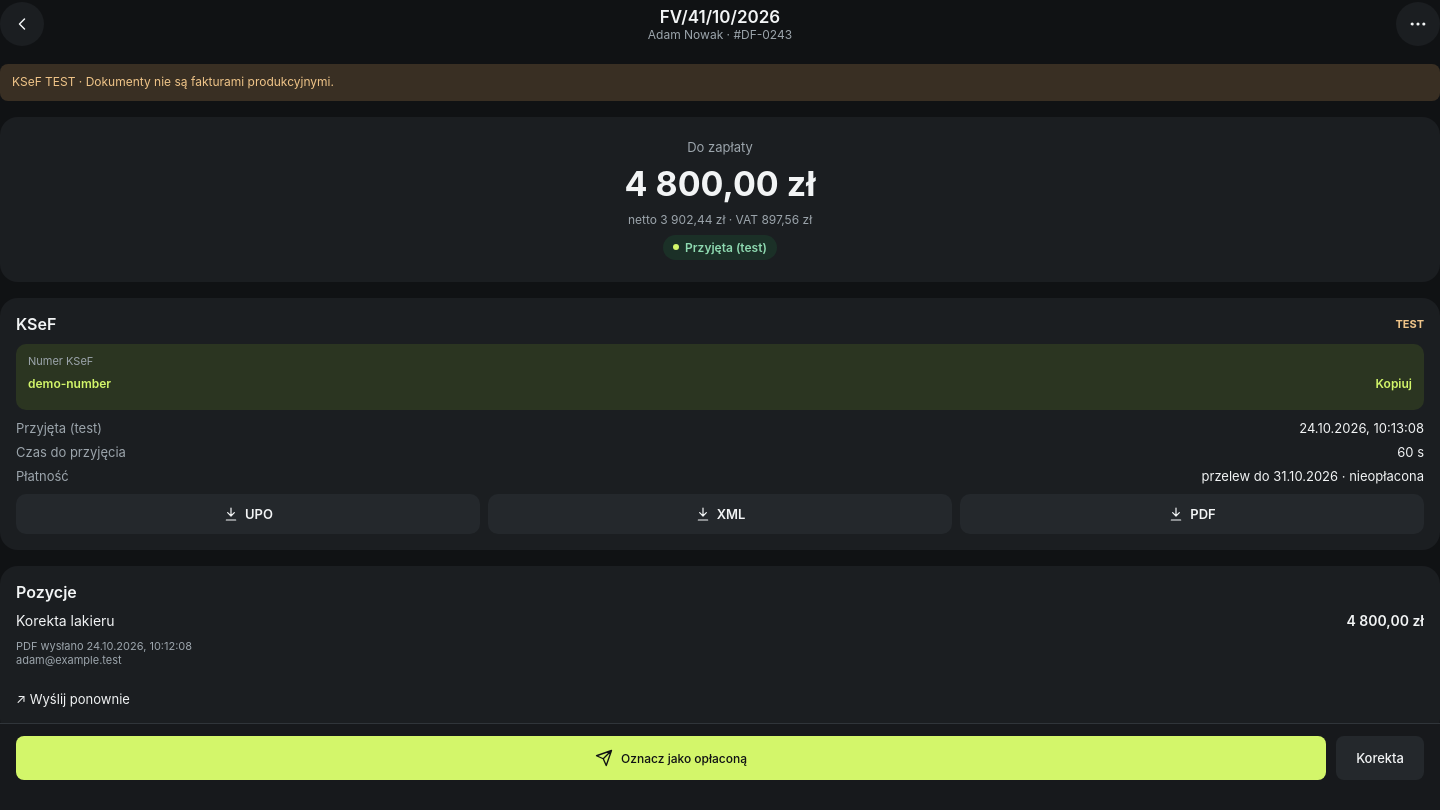
it: uses shared PDF, UPO and payment actions from mobile details
Click the button "PDF": (1192, 514) [960, 494, 1424, 534]
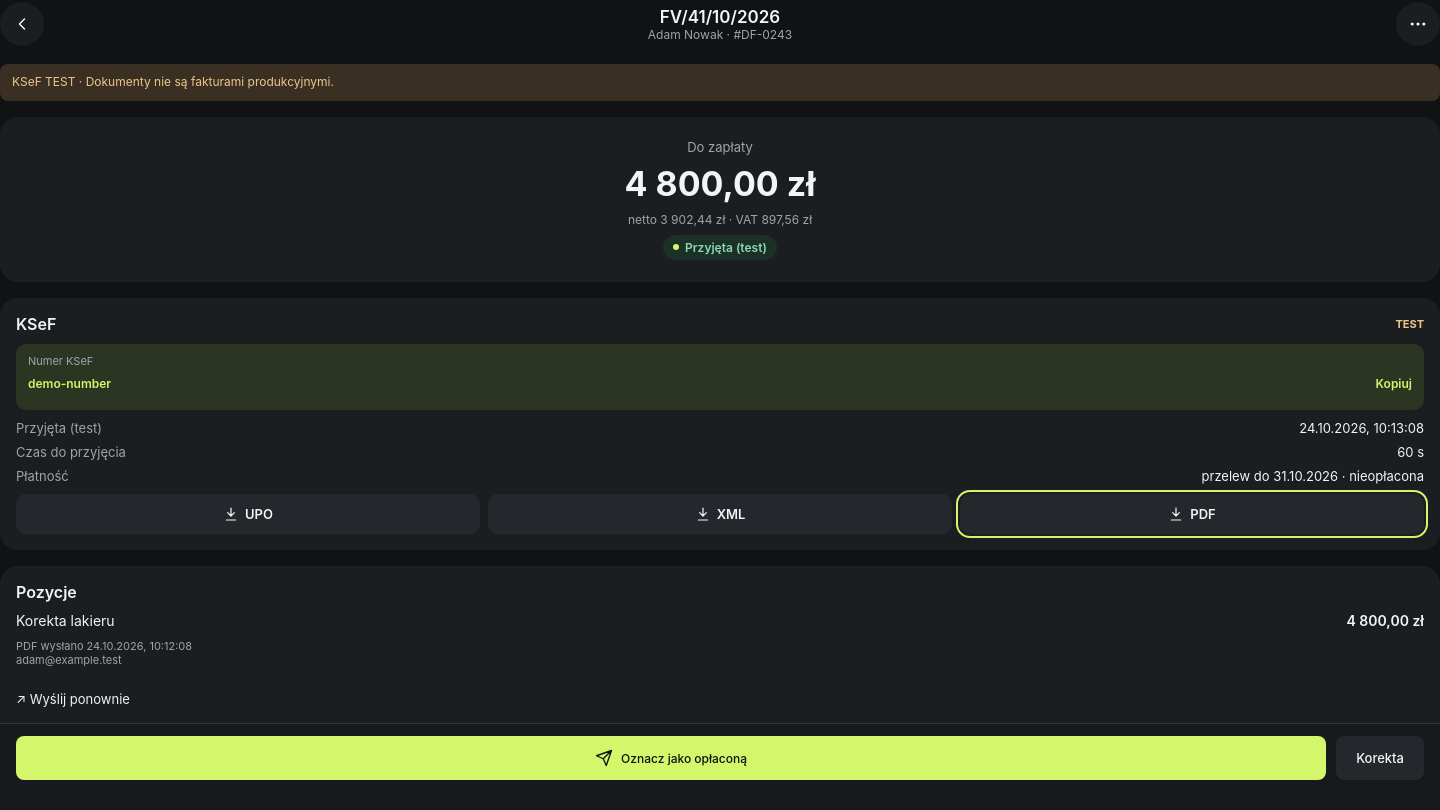
Click the button "UPO": (248, 514) [16, 494, 480, 534]
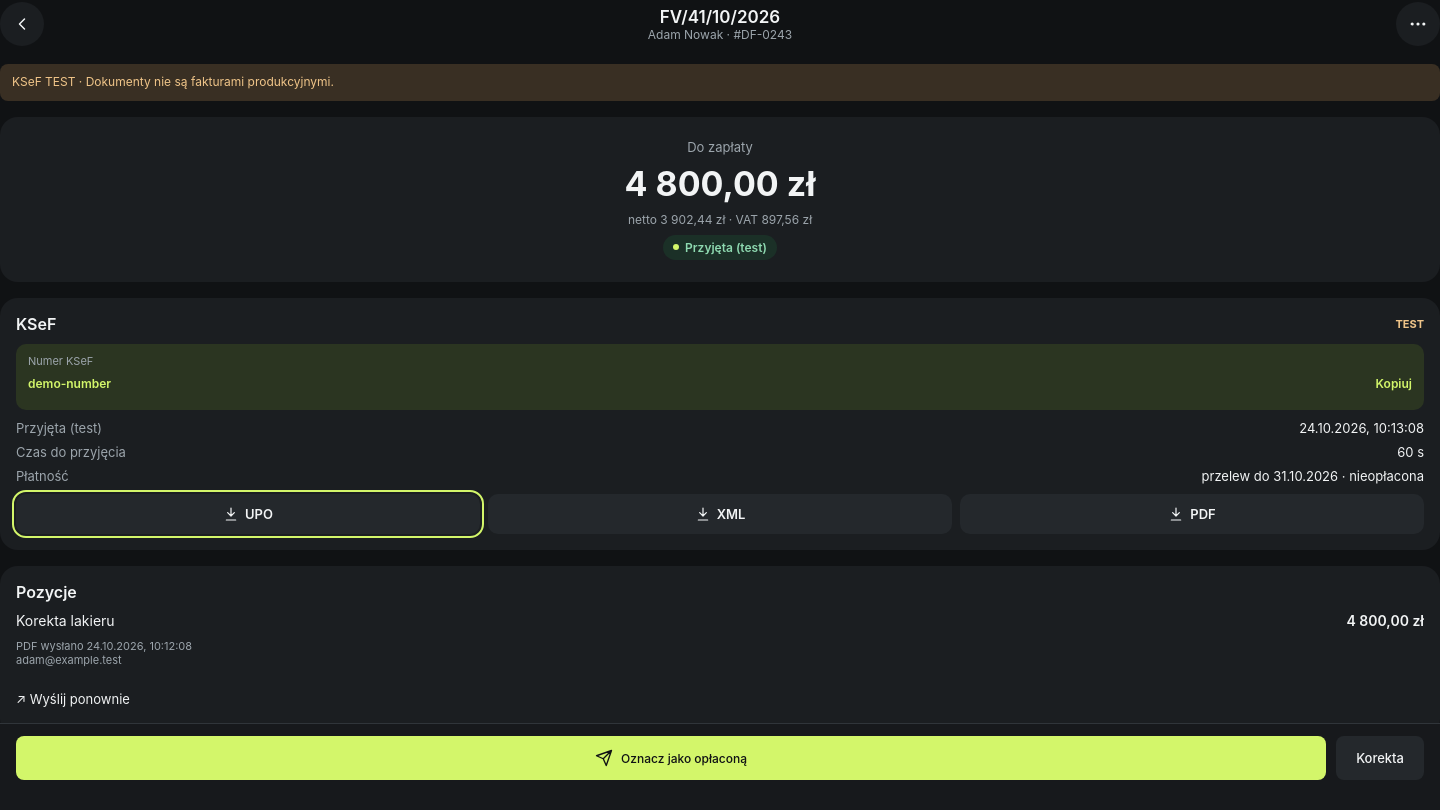
Click the button "Oznacz jako opłaconą": (671, 758) [16, 736, 1326, 780]
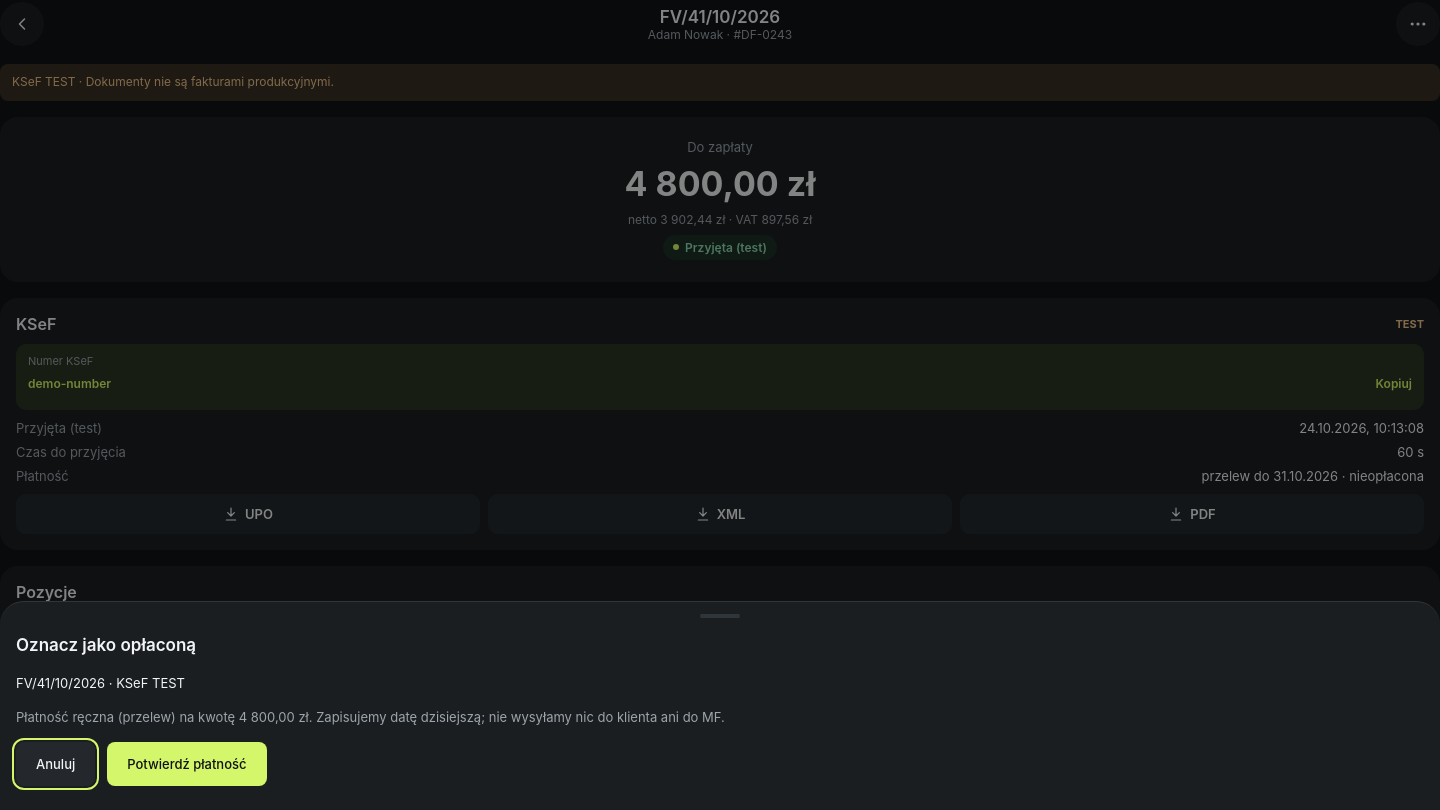
Click the button "Potwierdź płatność": (187, 764) [107, 742, 266, 786]
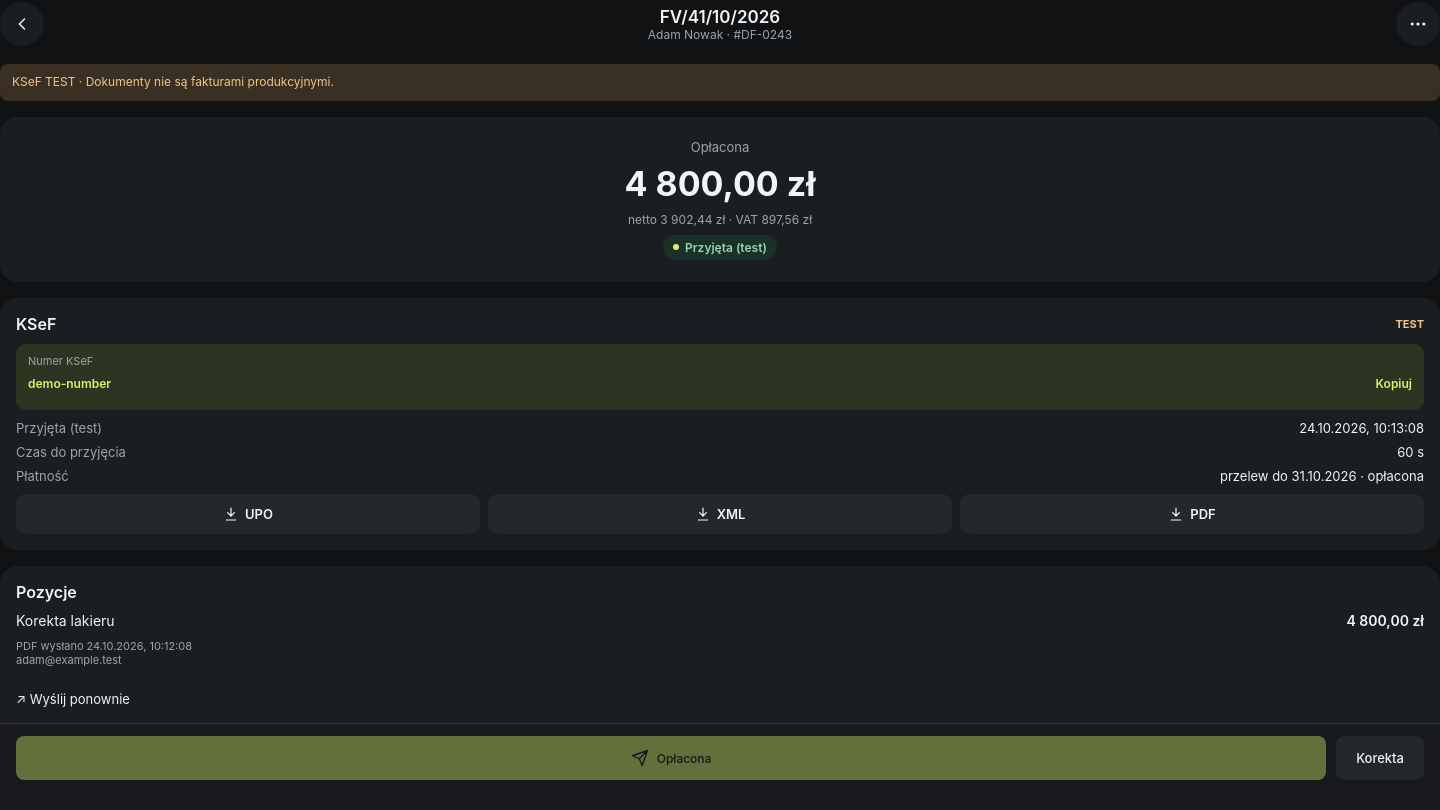
Expected: the button "Opłacona" is disabled, [16, 736, 1326, 780]
Click the button named "Więcej akcji faktury": (1418, 24) [1396, 2, 1439, 46]
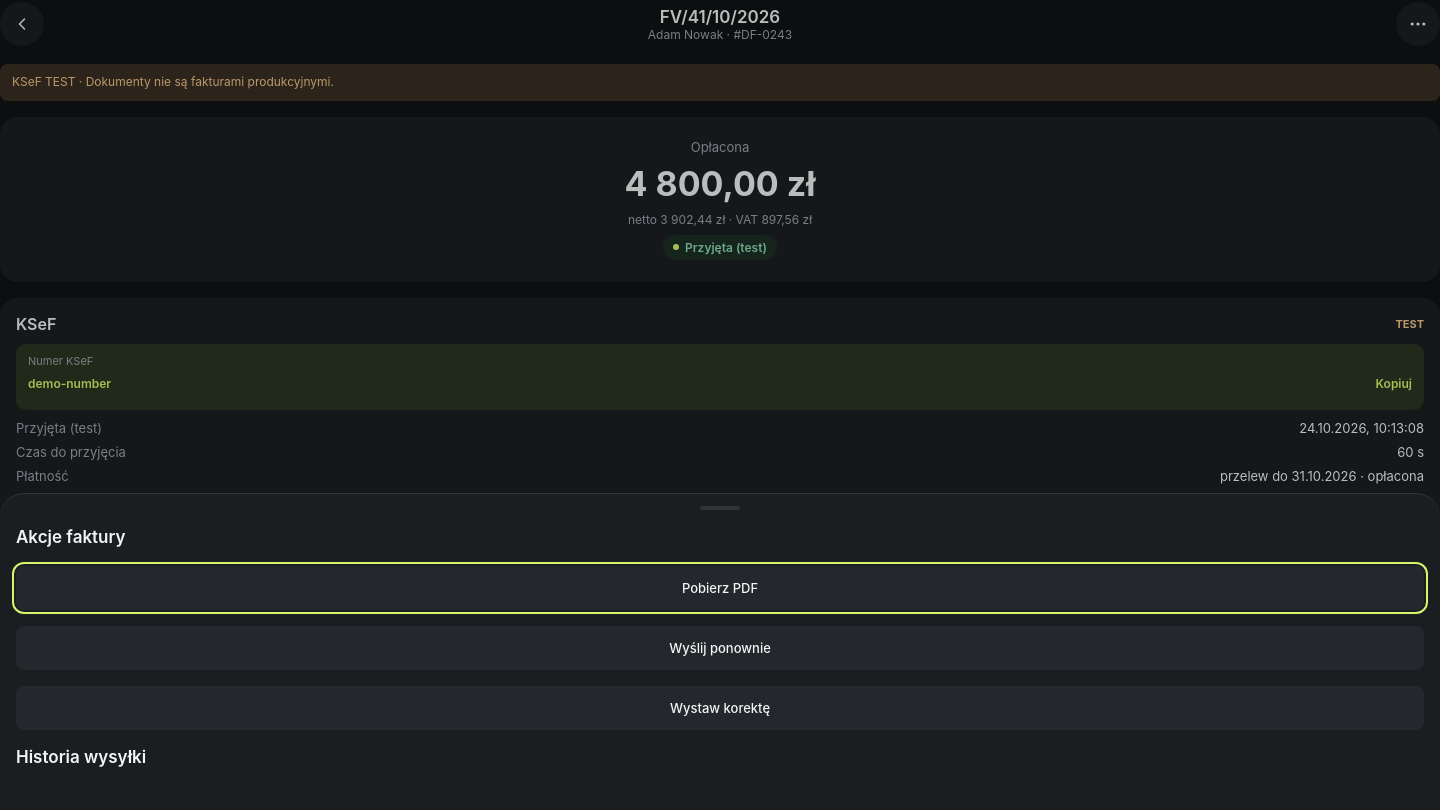
Expected: the dialog "Akcje faktury" is shown, [0, 493, 1439, 809]
